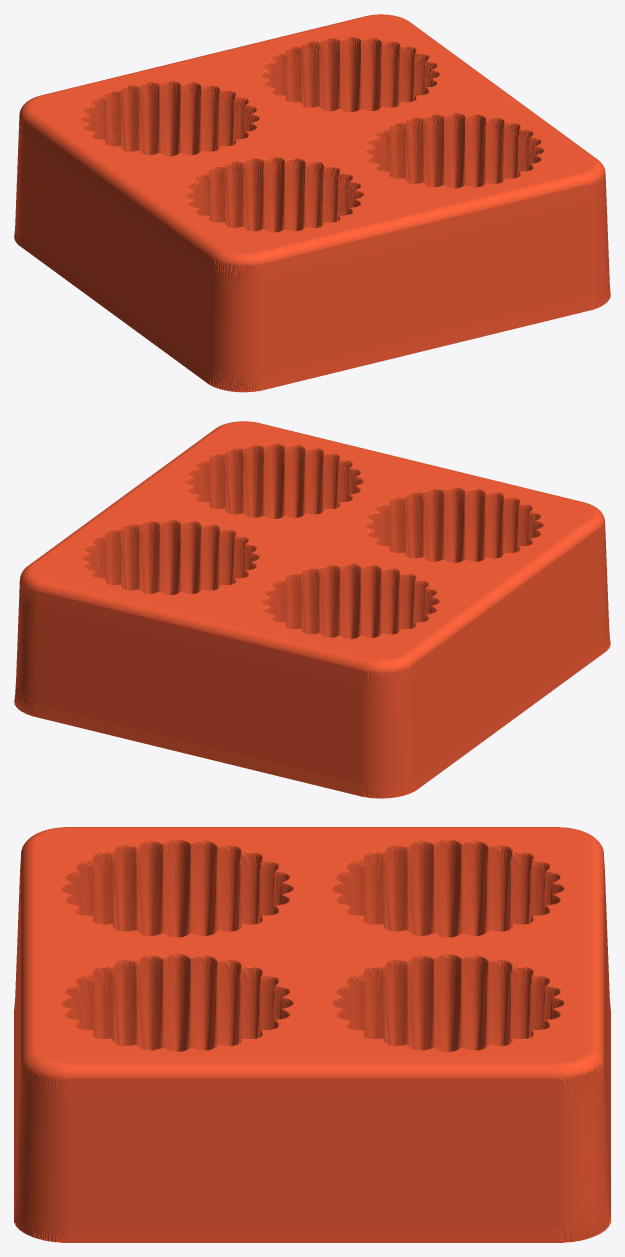
File: mold.glb
3 renders of one model, top to bottom at view 1: azimuth 30°, elevation 25°; view 2: azimuth 150°, elevation 25°; view 3: azimuth 270°, elevation 25°, orthographic. The views are drawn at different scales.
Visible parts, largest first — view 1: geometry_0; view 2: geometry_0; view 3: geometry_0.
Part boxes in pixels (x1,y1,x2,y2): geometry_0: [14, 14, 610, 392]; geometry_0: [14, 421, 610, 798]; geometry_0: [14, 827, 610, 1242].
Bounding box in the file's own units: 0.0992 × 0.0314 × 0.0992.
